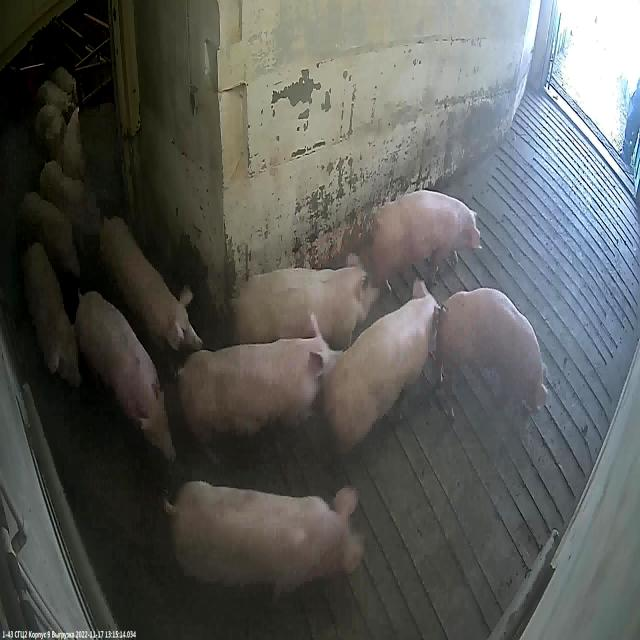pig: (163, 481, 364, 601), (320, 284, 441, 474), (178, 315, 341, 452), (75, 292, 175, 464), (100, 217, 207, 367), (235, 257, 374, 362), (367, 192, 482, 318), (442, 288, 546, 408), (22, 243, 82, 388), (20, 192, 80, 279)
